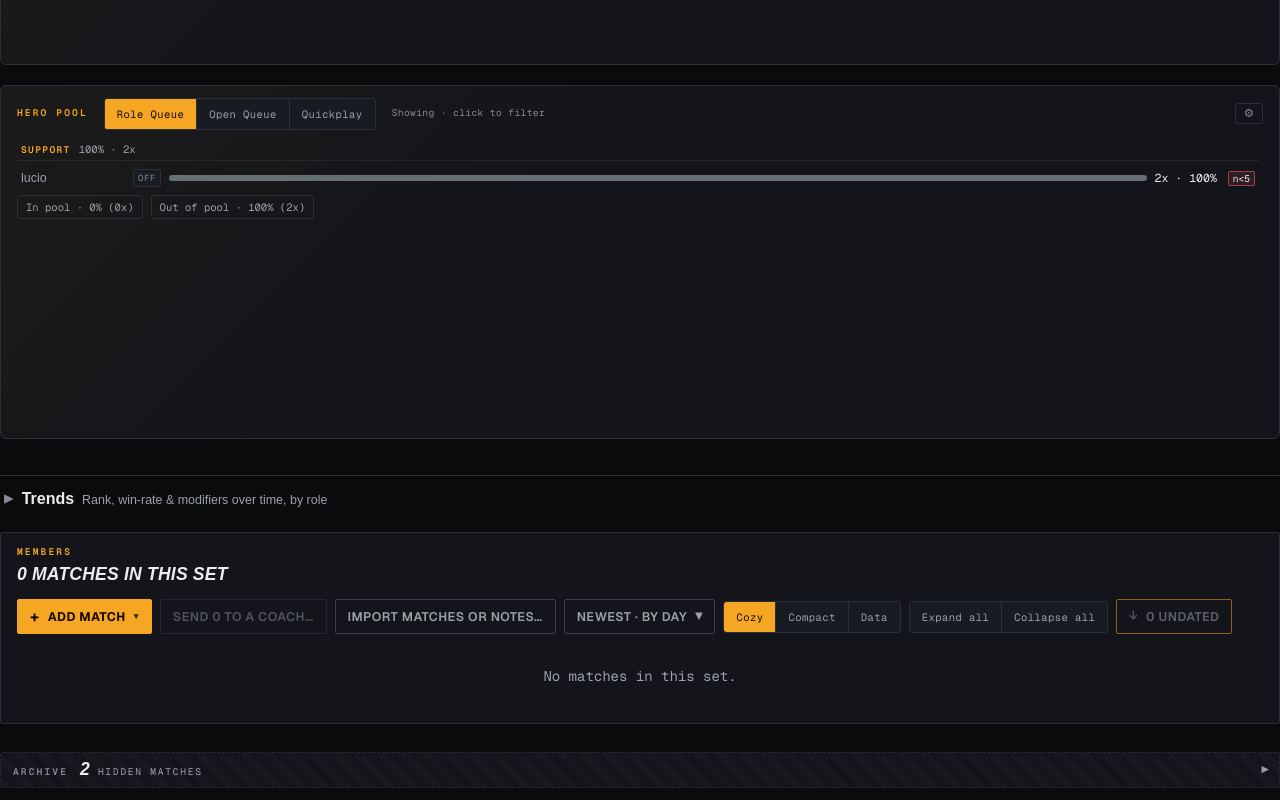
Scenario: MatchesView — Hidden drawer › expand reveals the hidden rows with per-row checkbox + Unhide + Delete forever
(page scrolled)
Click the button "Archive 2 hidden matches ▾". click: click(41, 772)
box: x1=1 y1=753 x2=1279 y2=787
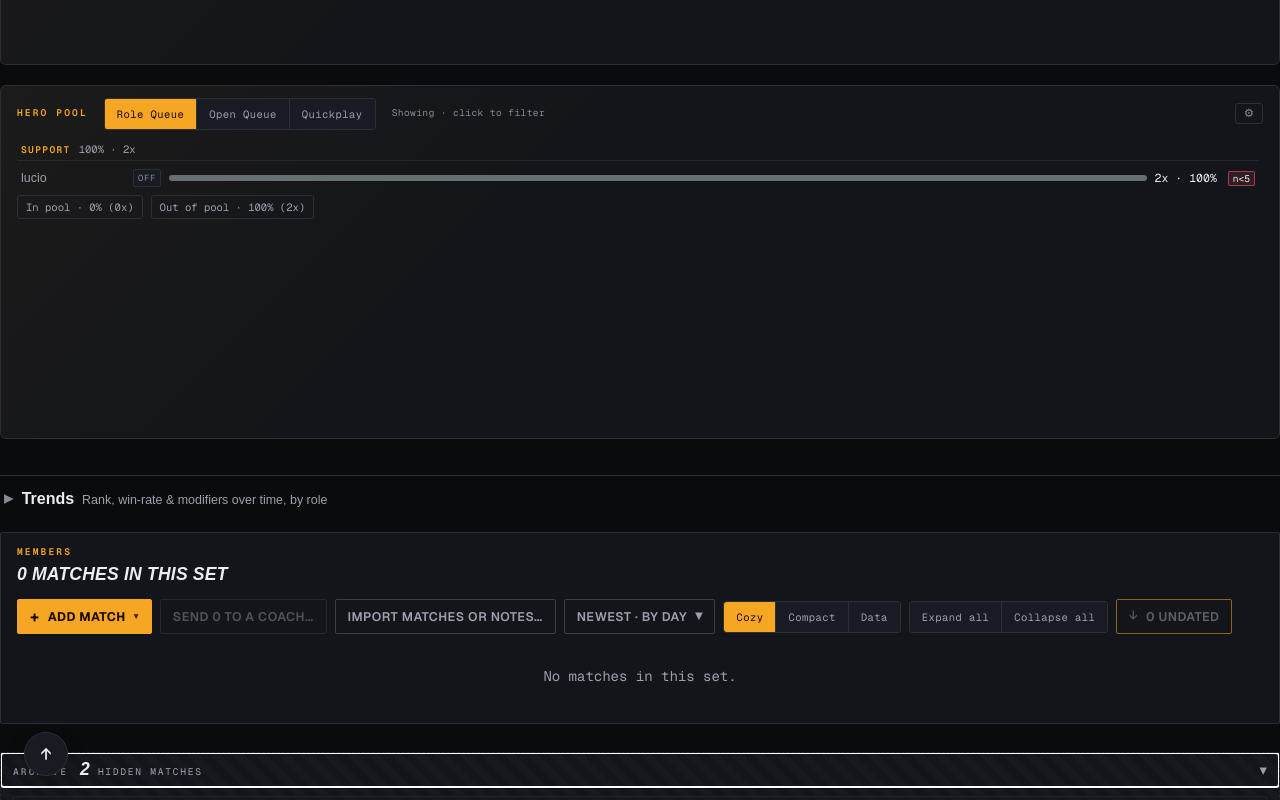
Result: the button "Archive 2 hidden matches ▾" is expanded at x1=1 y1=753 x2=1279 y2=787
